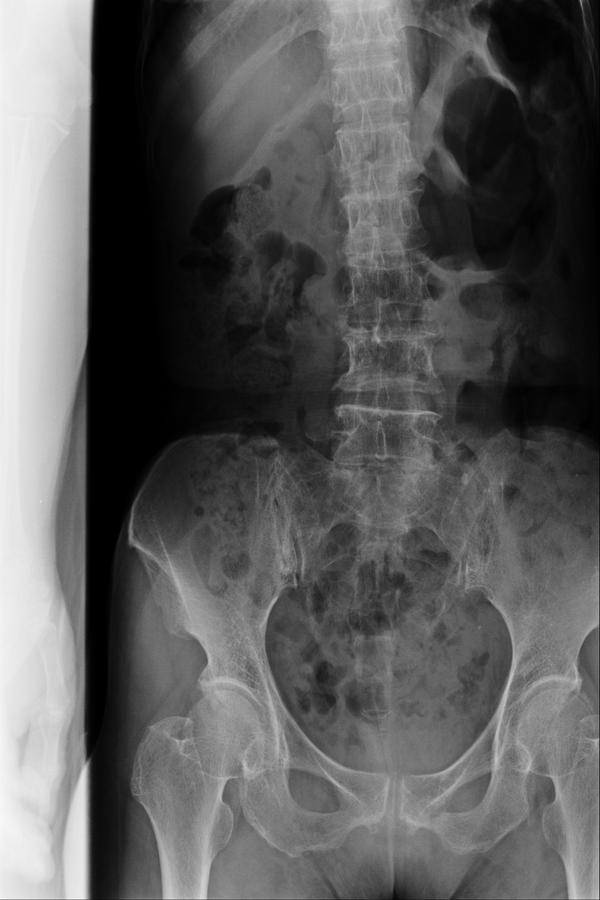lumbar scoliosis: (316, 115, 445, 508)
